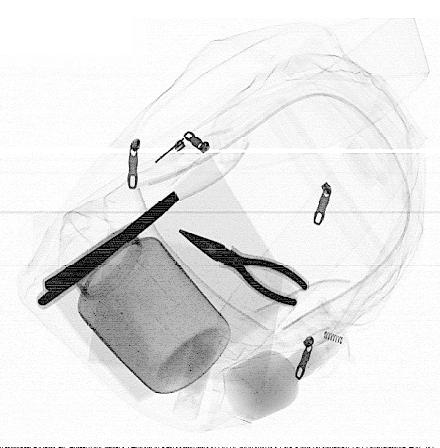Pliers: (35, 188, 182, 307), (177, 228, 310, 310)
